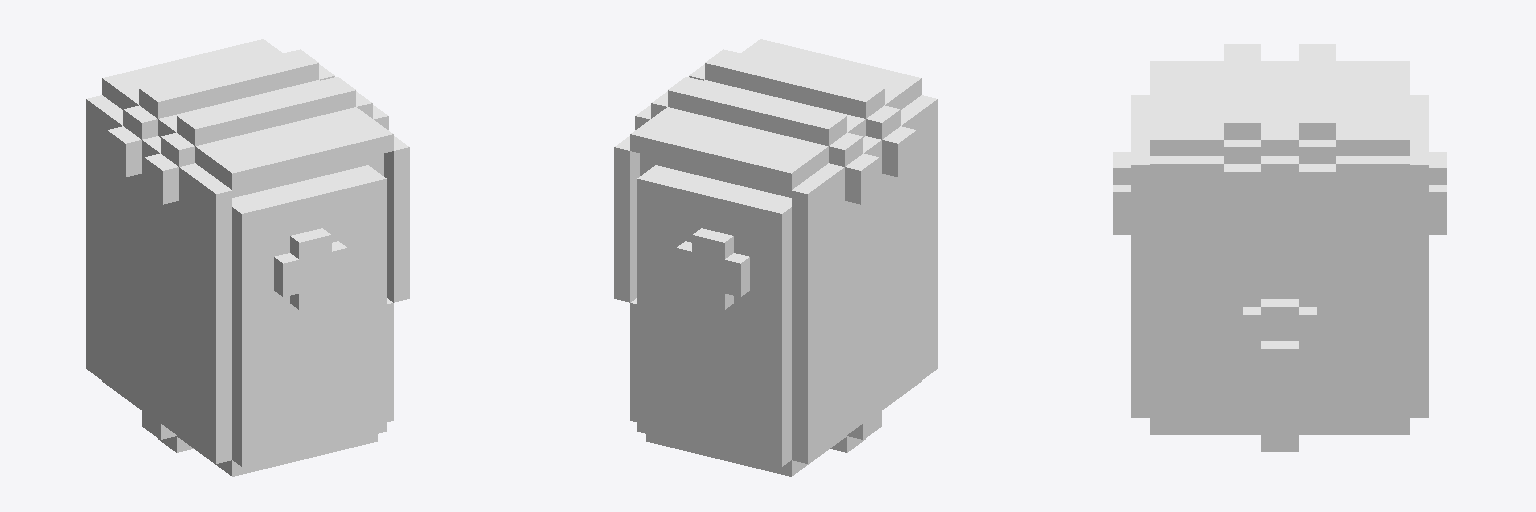
Rendered from Bag-5.obj.
The picture shows the model from 3 angles: view 1: azimuth 30°, elevation 25°; view 2: azimuth 150°, elevation 25°; view 3: azimuth 270°, elevation 25°; orthographic projection.
Parts seen in each view (by area): view 1: object 1; view 2: object 1; view 3: object 1.
Part boxes in pixels (bbox=[...]): object 1: bbox=[86, 39, 409, 476]; object 1: bbox=[614, 39, 937, 476]; object 1: bbox=[1113, 44, 1446, 451].
Size of the model in its own units: 1.5 by 2 by 1.8.